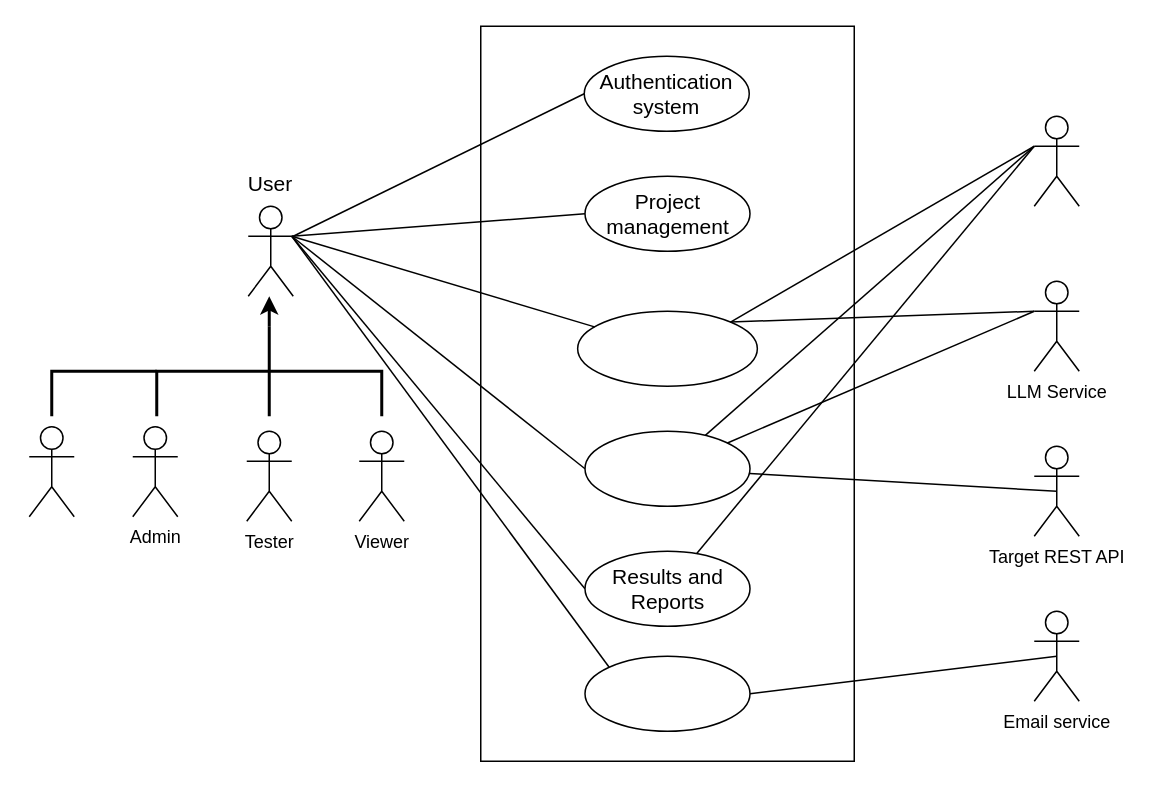
This 1166x788 diagram has some shape labels left out. Each missing label, with the box of its shape:
API Specification Management: (576, 310, 757, 386)
AutoRestTest engine: (1033, 115, 1079, 206)
Owner: (28, 425, 74, 517)
Team collaboration: (584, 655, 750, 731)
Test Execution: (584, 430, 750, 506)
